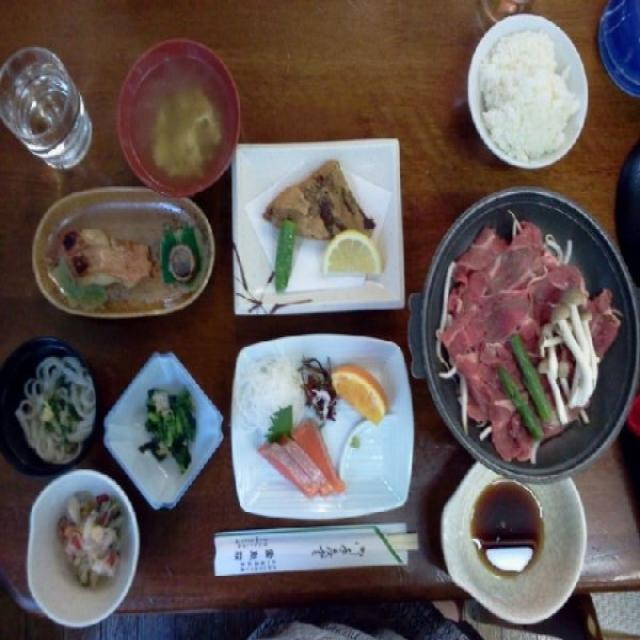Rice: (481, 29, 582, 154)
